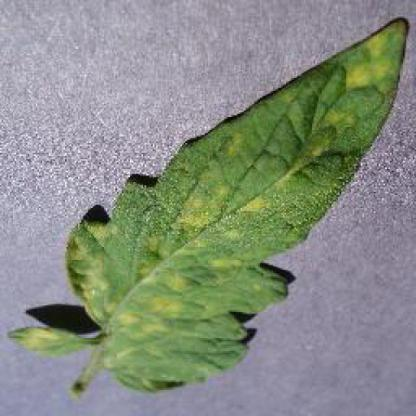Tomato_Leaf_Mold: (68, 19, 408, 382)
